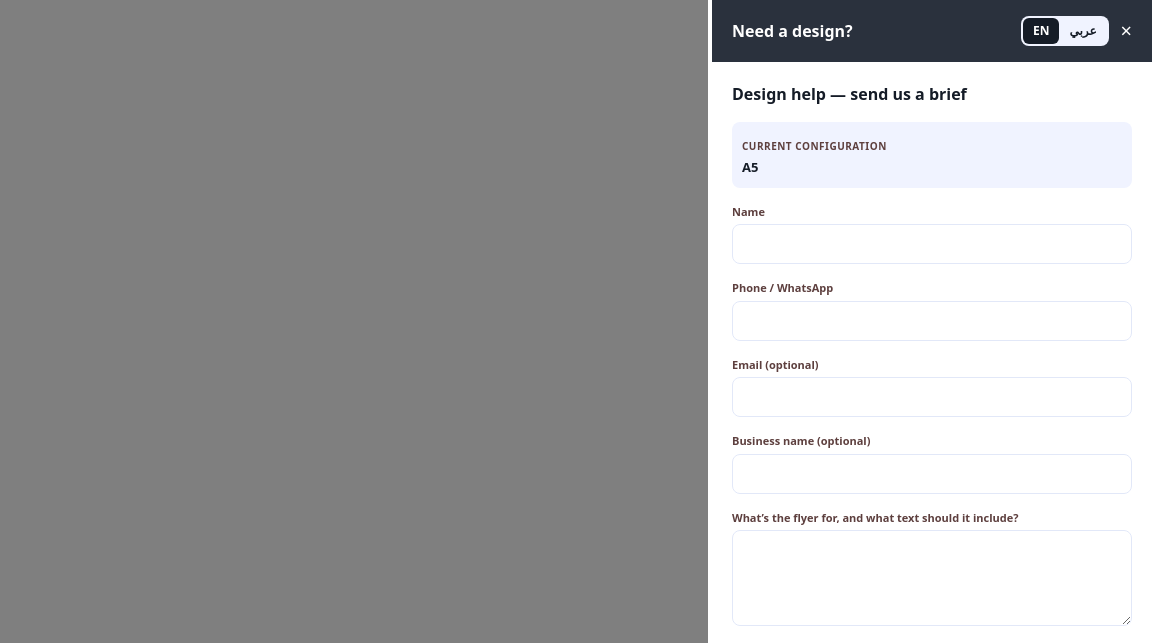
Scenario: Need a design? drawer › reports a failed send as an alert
In the field labelled "Name": [932, 244] box [732,224,1132,264], type "Layla"
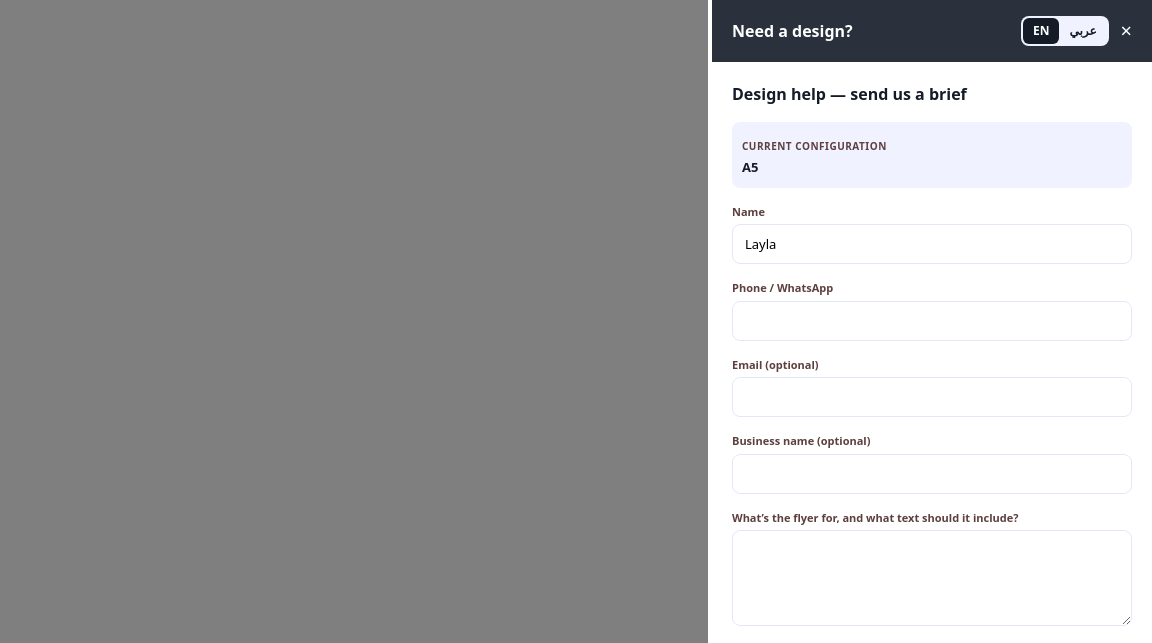
In the field labelled "Phone / WhatsApp": [932, 320] box [732,300,1132,340], type "0501234567"
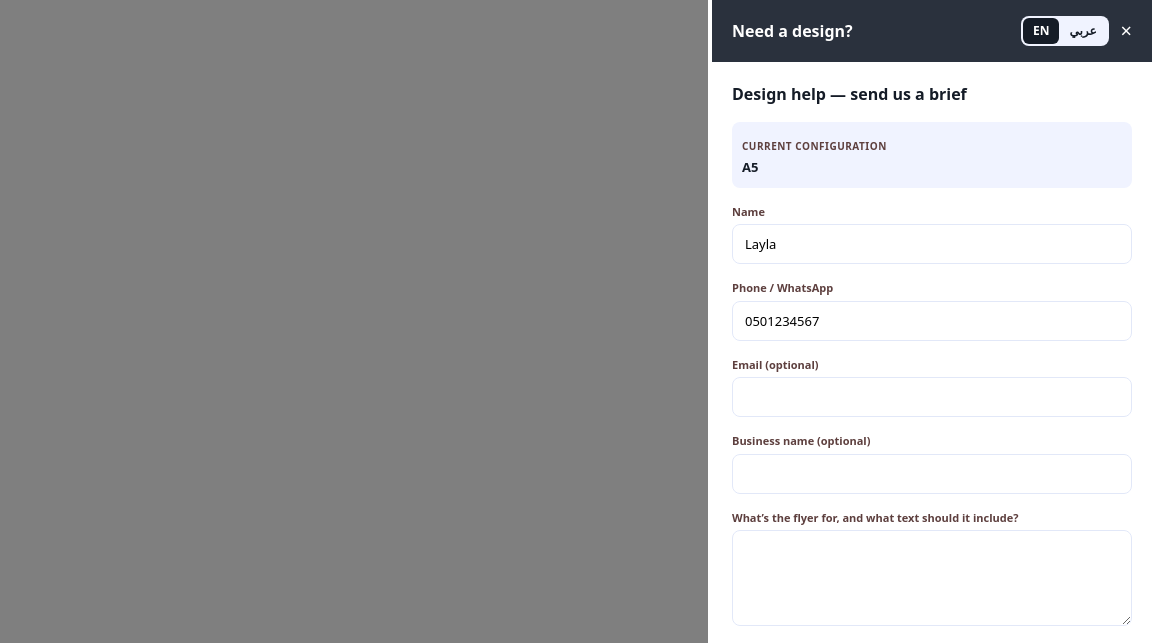
In the text box labelled "What’s the flyer for, and what text should it include?": [932, 578] box [732,530,1132,626], type "A flyer"
(page scrolled)
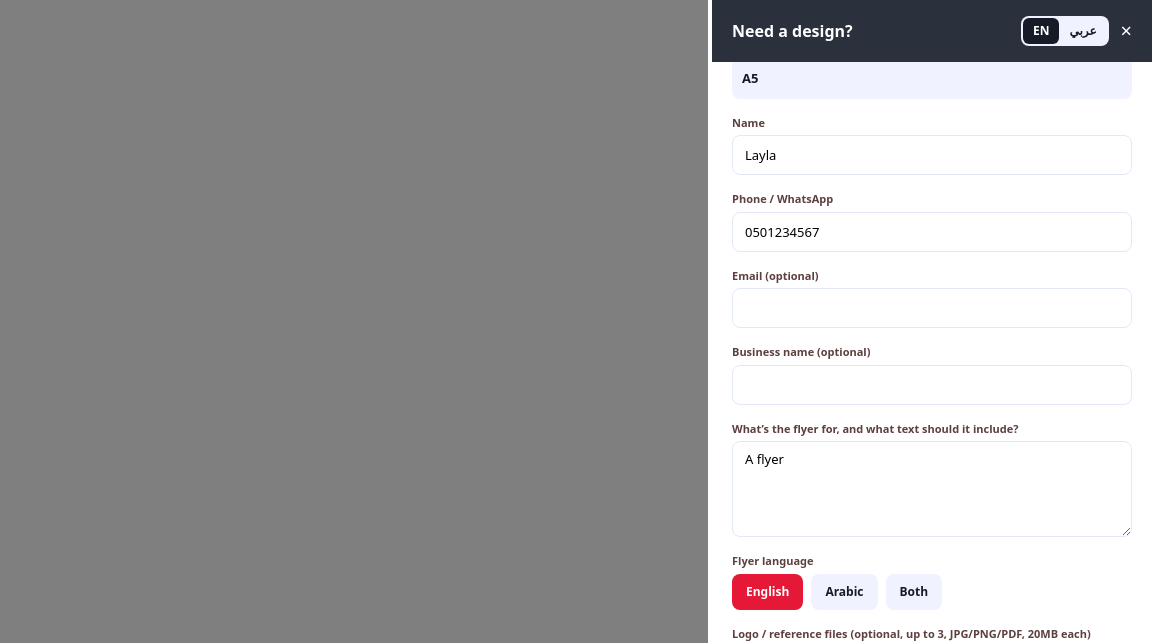
Submit the form named "Send brief"
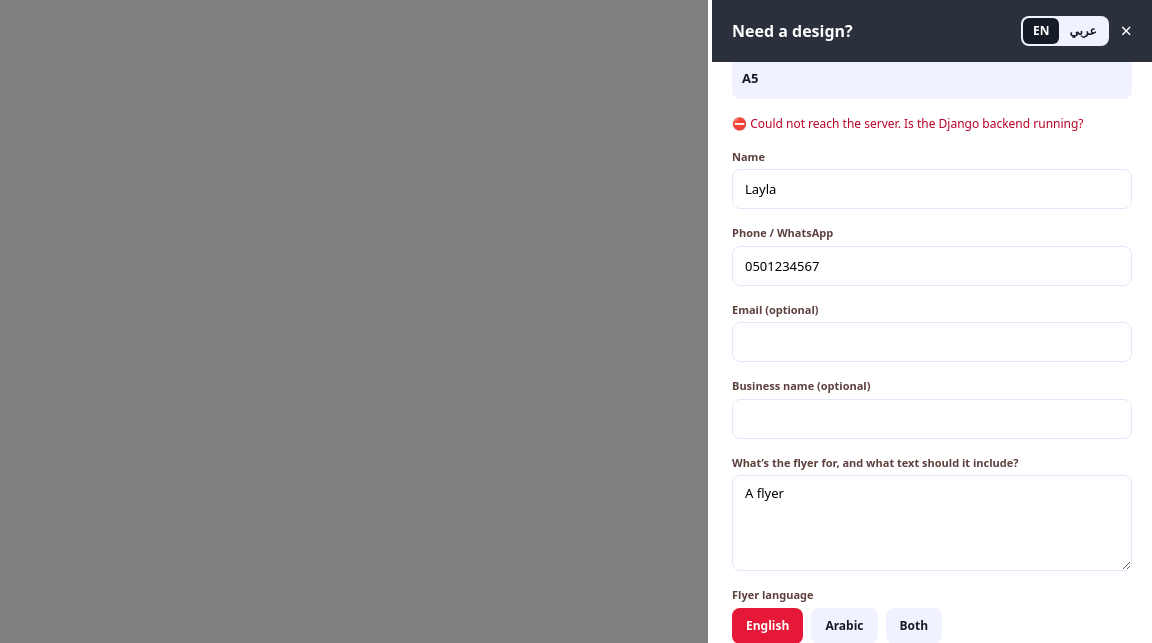
Expected: the message "⛔ Could not reach the server. Is the Django backend running?" is shown, [732,114,1132,132]
